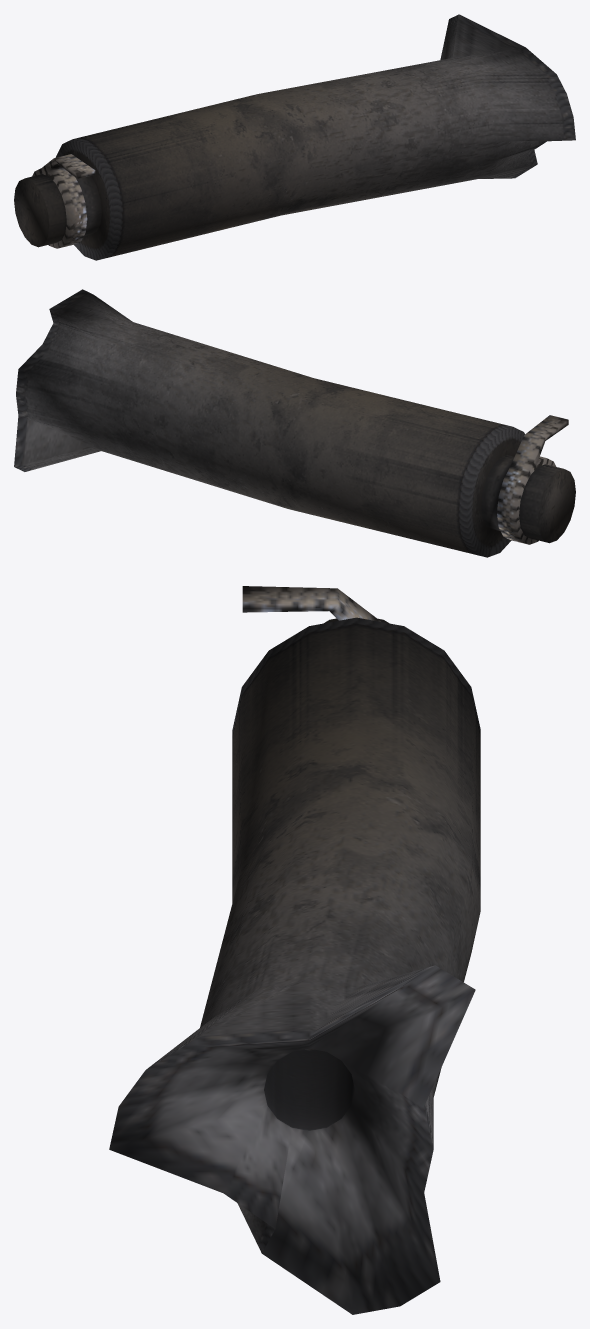
The model's file is TLOG_ImprovisedSuppressorBrokenCrafting.fbx.
The picture shows the model from 3 angles, top to bottom: view 1: azimuth 30°, elevation 25°; view 2: azimuth 150°, elevation 25°; view 3: azimuth 270°, elevation 25°; orthographic projection. The views are drawn at different scales.
Visible parts, largest first — view 1: Cylinder.002; view 2: Cylinder.002; view 3: Cylinder.002.
Part boxes in pixels (x1=…): Cylinder.002: x1=14, y1=14, x2=575, y2=260; Cylinder.002: x1=14, y1=289, x2=575, y2=557; Cylinder.002: x1=109, y1=586, x2=480, y2=1314.
Bounding box in the file's own units: 0.1139 × 0.0355 × 0.038.
